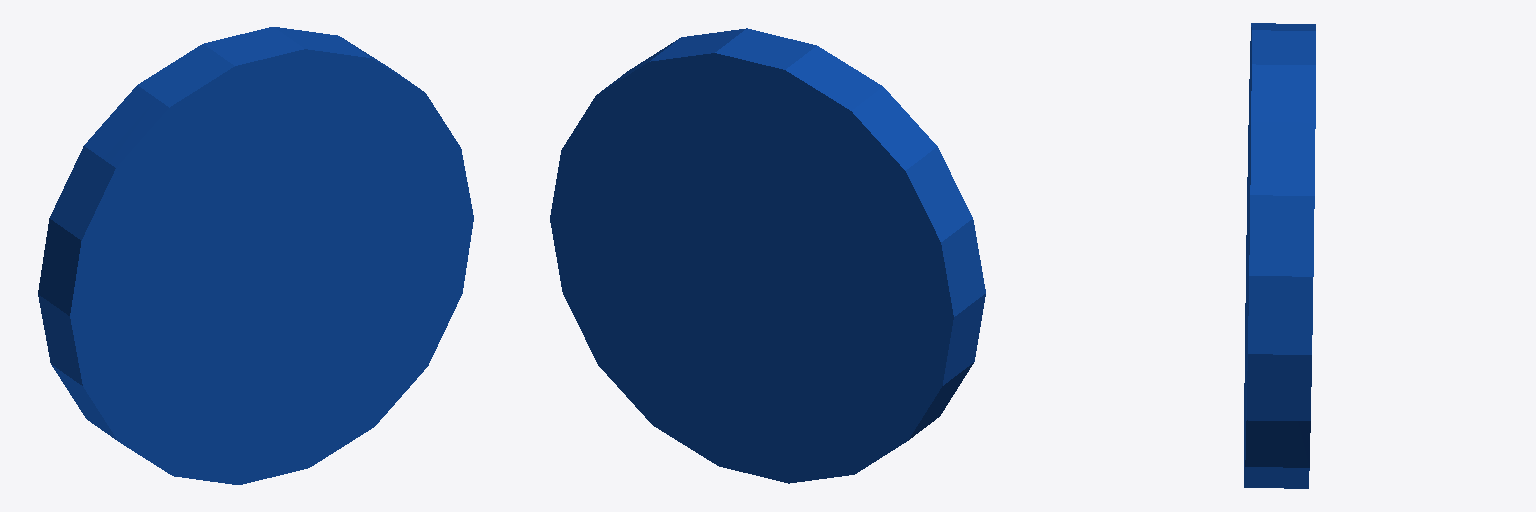
File: moneda.obj
The picture shows the model from 3 angles: view 1: azimuth 30°, elevation 25°; view 2: azimuth 150°, elevation 25°; view 3: azimuth 270°, elevation 25°; orthographic projection.
Parts seen in each view (by area): view 1: Cylinder001; view 2: Cylinder001; view 3: Cylinder001.
Boxes of the visible parts, box(x1,y1,x2,y2) form: Cylinder001: box(38, 27, 473, 484); Cylinder001: box(550, 28, 985, 483); Cylinder001: box(1244, 23, 1315, 488).
Size of the model in its own units: 1.73 by 1.71 by 0.2677.